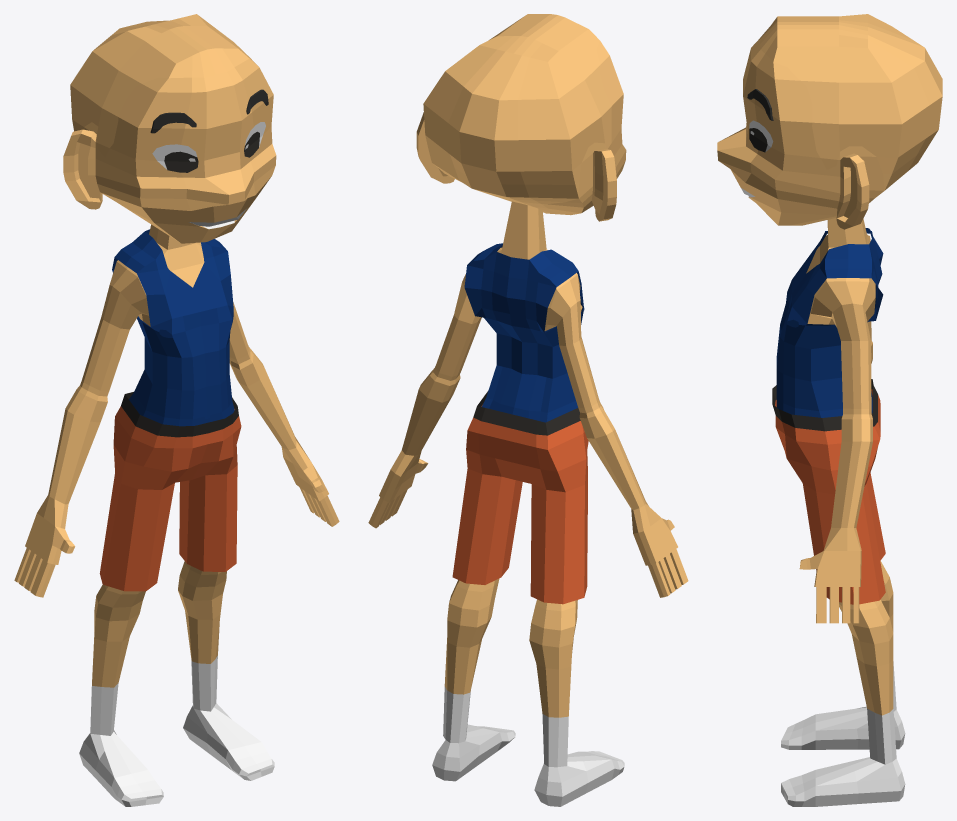
The model's file is loyalist.glb.
3 views of the same model, side by side, from view 1: azimuth 30°, elevation 25°; view 2: azimuth 150°, elevation 25°; view 3: azimuth 270°, elevation 25° (orthographic).
Parts seen in each view (by area): view 1: SkinniBoy; view 2: SkinniBoy; view 3: SkinniBoy.
Boxes of the visible parts, left/top/right/bottom form: SkinniBoy: left=14, top=14, right=339, bottom=806; SkinniBoy: left=368, top=14, right=688, bottom=806; SkinniBoy: left=717, top=14, right=942, bottom=806.
Bounding box in the file's own units: 1.38 × 3.22 × 0.8804.
Materials: 1 (1 with a texture image).
